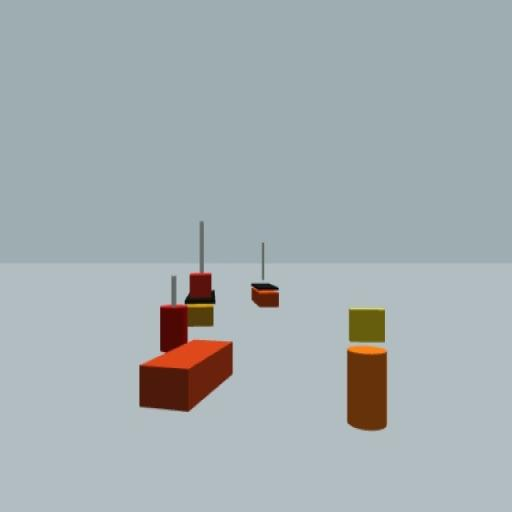buoy: (346, 308, 388, 431)
debris_container: (138, 339, 233, 414)
floating_obstacle: (160, 274, 188, 352)
vessel: (183, 220, 215, 330), (251, 242, 280, 309)
